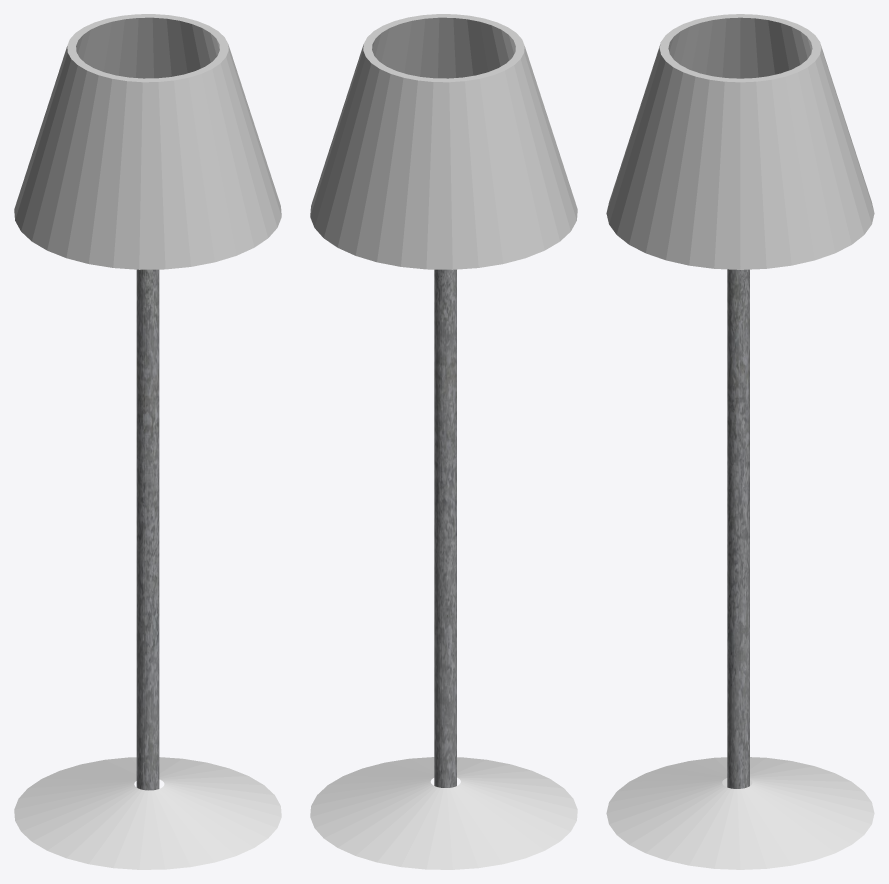
Rendered from tall lamp.fbx.
3 views of the same model, side by side, from view 1: azimuth 30°, elevation 25°; view 2: azimuth 150°, elevation 25°; view 3: azimuth 270°, elevation 25° (orthographic).
Parts seen in each view (by area): view 1: Cylinder.015, Cylinder.017, Cylinder.016; view 2: Cylinder.015, Cylinder.017, Cylinder.016; view 3: Cylinder.015, Cylinder.017, Cylinder.016.
Boxes of the visible parts, x1,y1,x2,y2 form: Cylinder.015: [14, 14, 281, 269]; Cylinder.017: [14, 757, 281, 869]; Cylinder.016: [136, 269, 159, 790]; Cylinder.015: [310, 14, 577, 269]; Cylinder.017: [310, 757, 577, 869]; Cylinder.016: [434, 269, 456, 787]; Cylinder.015: [606, 14, 874, 269]; Cylinder.017: [606, 757, 874, 869]; Cylinder.016: [727, 269, 749, 788].
Bounding box in the file's own units: 117 × 369 × 117.
